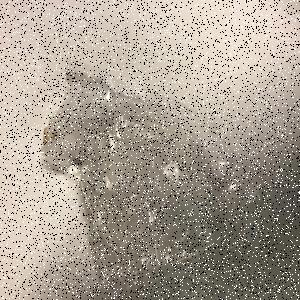Trash: (41, 57, 269, 300)
